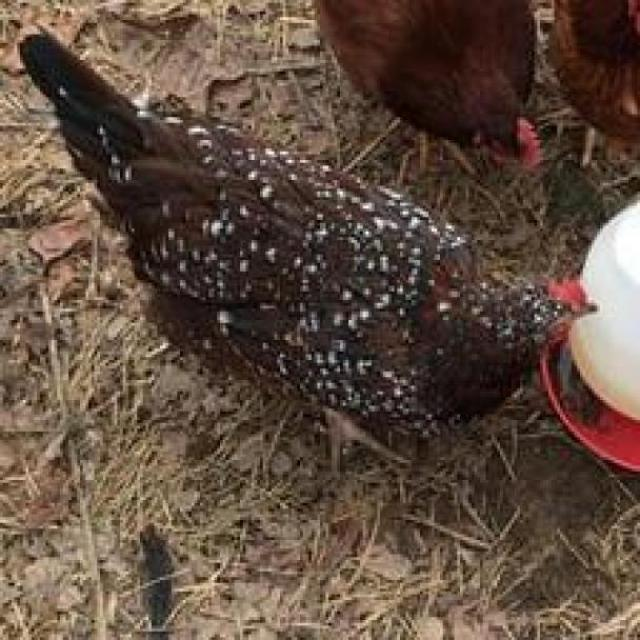Chicken: (16, 28, 607, 506)
